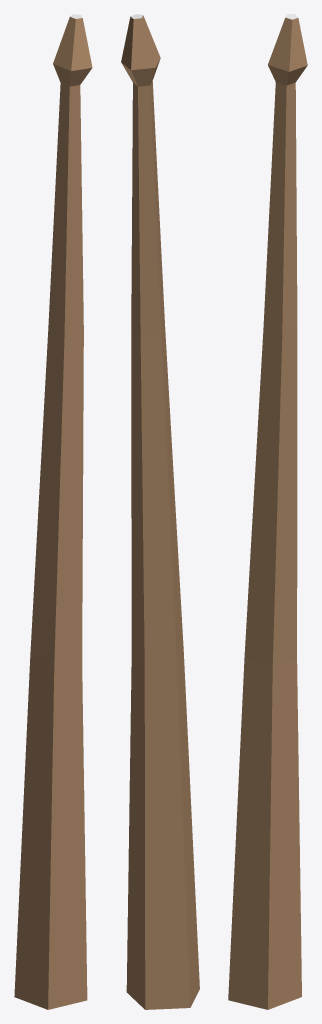
The model's file is Palm_Tree_NoLeaves_m_Snow_BT_01.fbx.
3 renders of one model, left to right at view 1: azimuth 30°, elevation 25°; view 2: azimuth 150°, elevation 25°; view 3: azimuth 330°, elevation 25°, orthographic.
Parts seen in each view (by area): view 1: Palm_Tree_NoLeaves_m_Snow_BT_01; view 2: Palm_Tree_NoLeaves_m_Snow_BT_01; view 3: Palm_Tree_NoLeaves_m_Snow_BT_01.
Boxes of the visible parts, bbox=[...] form: Palm_Tree_NoLeaves_m_Snow_BT_01: bbox=[14, 14, 92, 1009]; Palm_Tree_NoLeaves_m_Snow_BT_01: bbox=[121, 14, 199, 1009]; Palm_Tree_NoLeaves_m_Snow_BT_01: bbox=[228, 14, 307, 1009].
Bounding box in the file's own units: 44.95 × 586 × 38.21.
